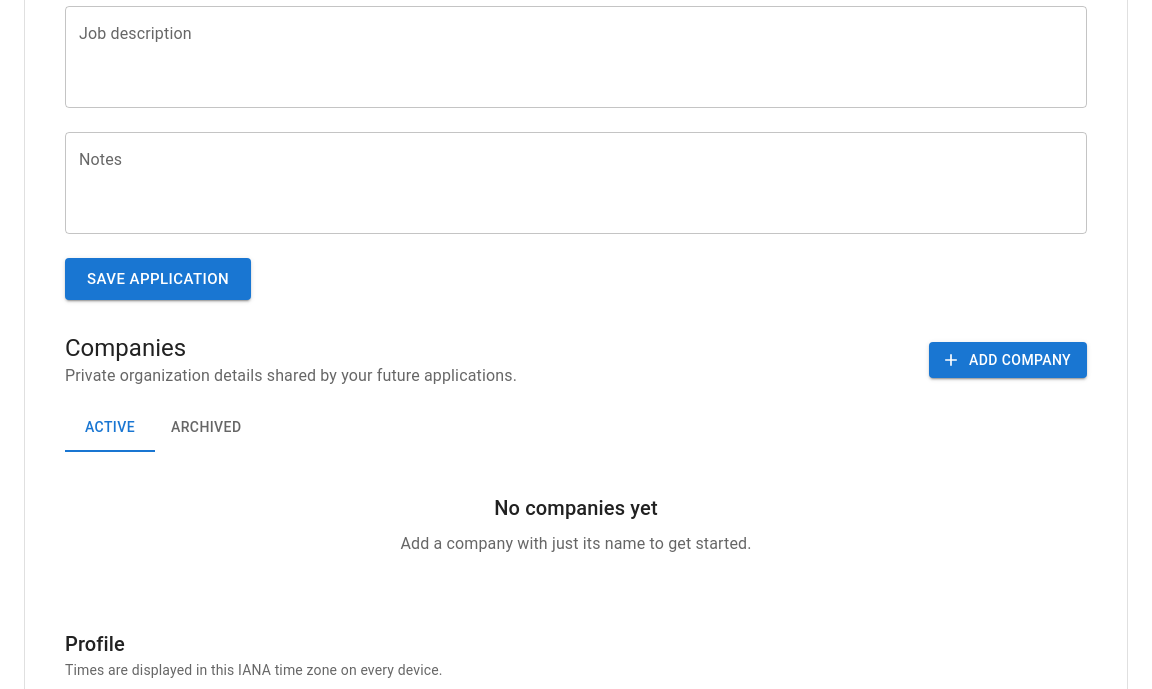
Test: identity workflow › keeps a normalized duplicate conflict attached to the company name field
(page scrolled)
Expected: the heading "No companies yet" is shown, [494,496,658,520]
Click the button "Add company" at (1008, 360), box [929,342,1087,378]
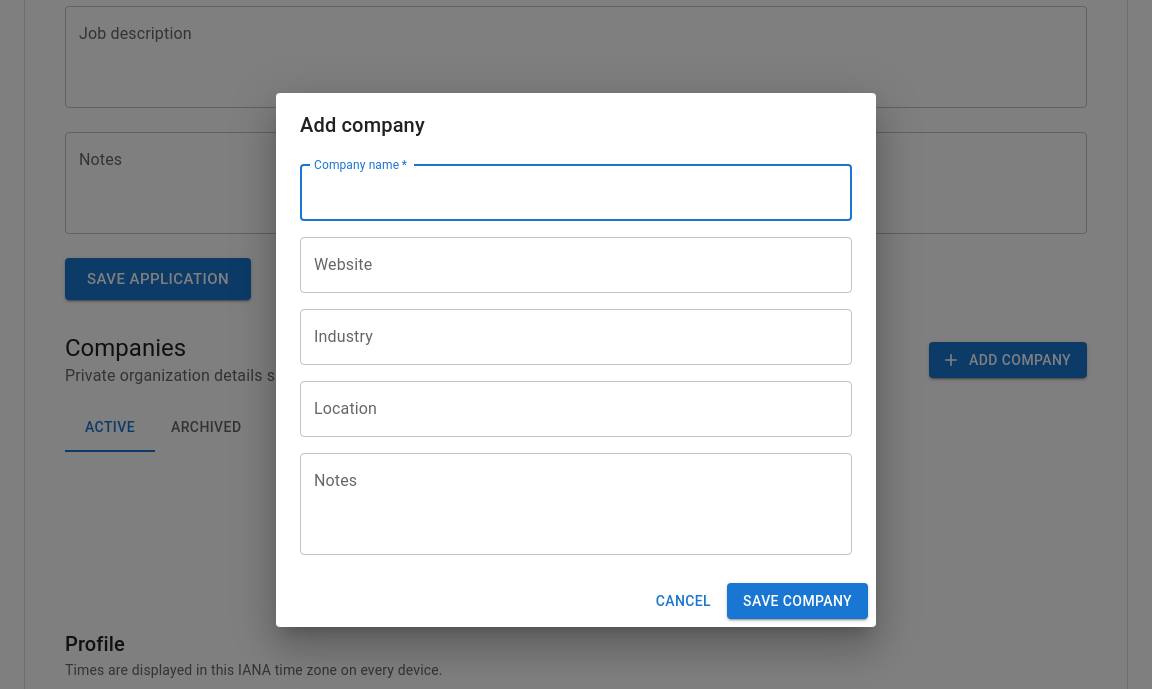
Type "ACME LABS" into the field labelled "Company name *" at (576, 193), box [300,165,852,221]
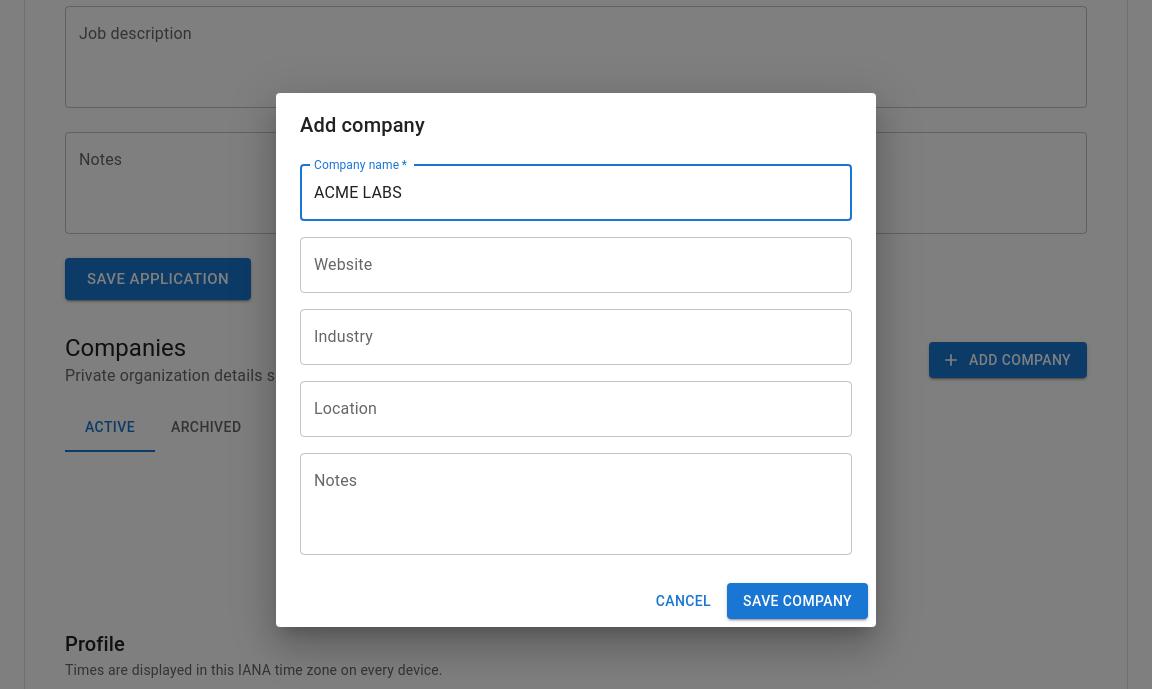
Click the button "Save company" at (798, 601), box [727,583,868,619]
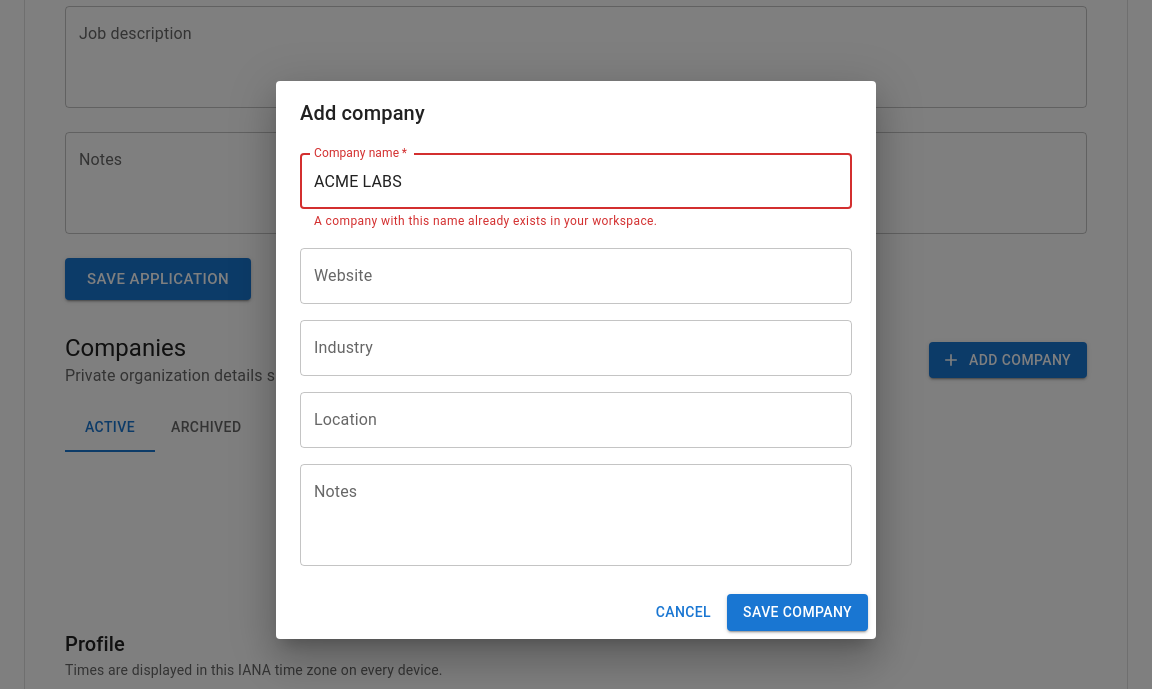
Now the text "A company with this name already exists in your workspace." is shown, box [314,214,657,228]
